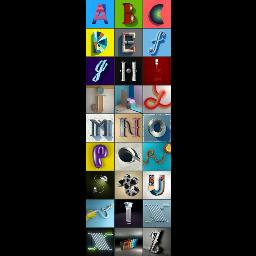a: (90, 2, 110, 26)
b: (116, 0, 140, 28)
e: (118, 29, 140, 57), (88, 118, 110, 138)
n: (117, 115, 143, 139)
o: (145, 115, 167, 141)
p: (89, 144, 111, 170)
r: (144, 146, 158, 166)
u: (144, 172, 166, 200)
